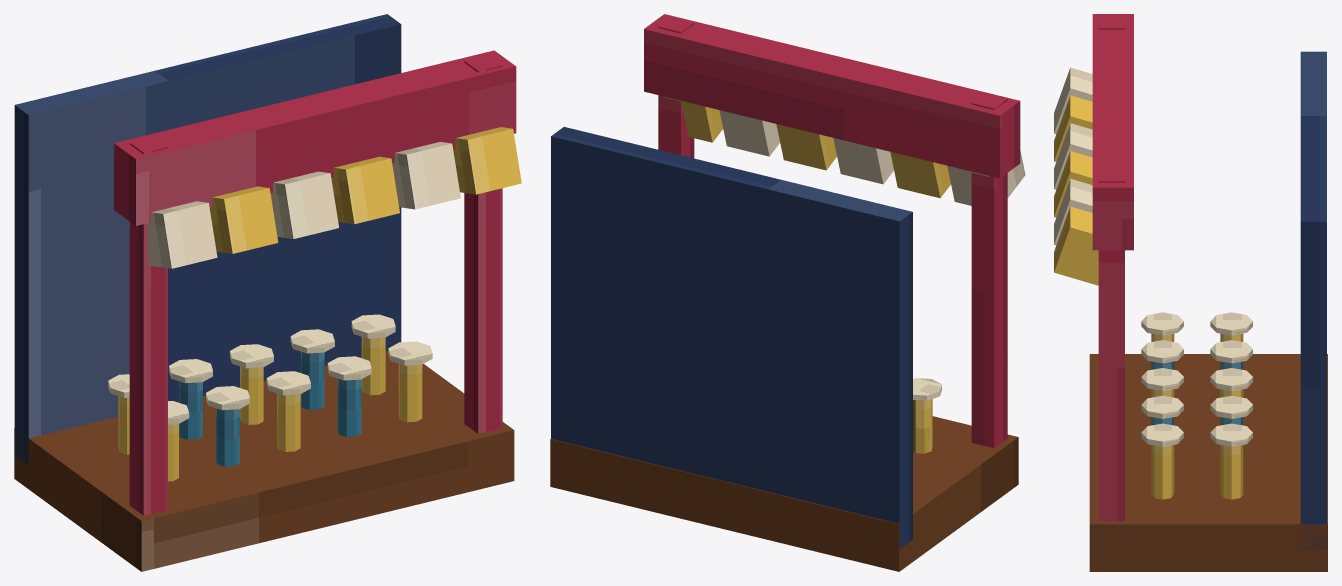
The model's file is ring_toss_stall.glb.
The picture shows the model from 3 angles, left to right: view 1: azimuth 30°, elevation 25°; view 2: azimuth 150°, elevation 25°; view 3: azimuth 270°, elevation 25°; orthographic projection. The views are drawn at different scales.
Parts seen in each view (by area): view 1: StallBack, StallDeck, StallHeader, StallPost, StallPost.001, Awning_0, Awning_3, Awning_4, Awning_5, Awning_1, Awning_2, Bottle_0_4 (+16 smaller); view 2: StallBack, StallHeader, StallDeck, StallPost, StallPost.001, Awning_2, Awning_4, Awning_1, Awning_3, Awning_5, Awning_0, Bottle_0_0; view 3: StallDeck, StallBack, StallHeader, StallPost.001, Awning_5, Bottle_0_4, Bottle_1_4, Awning_2, Awning_1, Awning_3, Awning_4, Awning_0 (+10 smaller).
Part boxes in pixels (box(x1,y1,x2,y2)): StallBack: box(14, 14, 401, 464); StallDeck: box(14, 351, 514, 571); StallHeader: box(114, 50, 516, 225); StallPost: box(129, 136, 167, 515); StallPost.001: box(464, 55, 502, 433); Awning_0: box(148, 201, 217, 268); Awning_3: box(331, 156, 399, 224); Awning_4: box(392, 142, 460, 209); Awning_5: box(453, 127, 521, 194); Awning_1: box(209, 186, 278, 253); Awning_2: box(270, 171, 338, 238); Bottle_0_4: box(398, 364, 422, 422); StallBack: box(551, 127, 912, 548); StallHeader: box(644, 14, 1020, 178); StallDeck: box(550, 416, 1018, 571); StallPost: box(971, 93, 1007, 448); StallPost.001: box(658, 17, 694, 158); Awning_2: box(833, 138, 893, 184); Awning_4: box(719, 110, 779, 156); Awning_1: box(890, 152, 950, 198); Awning_3: box(776, 124, 836, 170); Awning_5: box(662, 96, 723, 142); Awning_0: box(947, 151, 1025, 205); Bottle_0_0: box(913, 399, 932, 453); StallDeck: box(1089, 354, 1327, 571); StallBack: box(1300, 51, 1326, 549); StallHeader: box(1092, 14, 1133, 250); StallPost.001: box(1098, 170, 1124, 521); Awning_5: box(1054, 206, 1098, 285); Bottle_0_4: box(1151, 445, 1174, 499); Bottle_1_4: box(1220, 445, 1243, 499); Awning_2: box(1054, 123, 1092, 189); Awning_1: box(1054, 95, 1092, 161); Awning_3: box(1054, 151, 1092, 217); Awning_4: box(1054, 178, 1092, 245); Awning_0: box(1054, 67, 1092, 133).
Size of the model in its own units: 2.5 by 2.6 by 1.67.
1 material, 1 textured.
